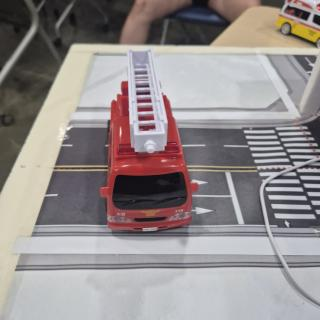Fire_truck: (100, 49, 198, 232)
